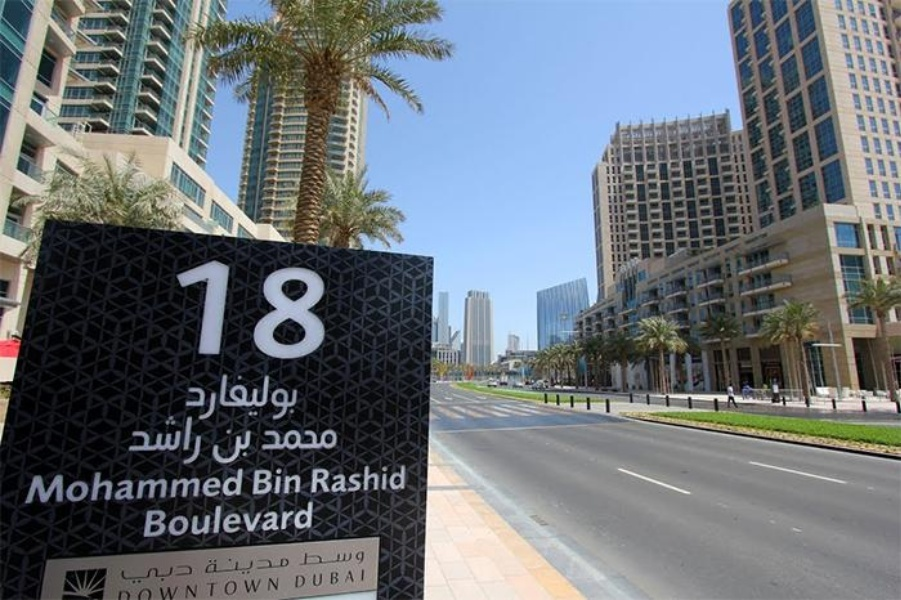text: (177, 253, 192, 364), (193, 253, 208, 364), (209, 253, 224, 364), (225, 253, 240, 364), (241, 253, 256, 364), (257, 253, 272, 364), (273, 253, 288, 364), (289, 253, 304, 364), (305, 253, 320, 364), (321, 253, 334, 364), (129, 413, 144, 467), (145, 413, 160, 467), (161, 413, 176, 467), (177, 413, 192, 467), (193, 371, 208, 423), (209, 371, 224, 423), (225, 371, 240, 423), (241, 371, 256, 423), (257, 371, 272, 423), (273, 371, 288, 423), (193, 413, 206, 467), (289, 371, 302, 423), (145, 500, 160, 541), (161, 500, 176, 541), (177, 500, 192, 541), (193, 500, 208, 541), (209, 500, 224, 541), (225, 500, 240, 541), (241, 500, 256, 541), (257, 500, 272, 541), (273, 500, 288, 541), (289, 500, 304, 541), (225, 425, 240, 465), (33, 467, 48, 507), (49, 467, 64, 507), (65, 467, 80, 507), (81, 467, 96, 507), (97, 467, 112, 507), (113, 467, 128, 507), (129, 467, 144, 507), (145, 467, 160, 507), (161, 467, 176, 507), (177, 467, 192, 507), (193, 467, 208, 507), (209, 467, 224, 507), (225, 467, 240, 507), (210, 425, 224, 465), (241, 425, 254, 465), (257, 467, 272, 500), (273, 467, 288, 500), (289, 467, 304, 500), (305, 500, 317, 541), (321, 464, 336, 496), (337, 464, 352, 496), (353, 464, 368, 496), (369, 464, 384, 496), (385, 464, 400, 496), (273, 425, 288, 455), (289, 425, 304, 455), (305, 425, 320, 455), (321, 425, 336, 455), (209, 549, 224, 579), (225, 549, 240, 579), (241, 549, 256, 579), (257, 549, 272, 579), (273, 549, 288, 579), (307, 464, 320, 496), (305, 545, 320, 572), (321, 545, 336, 572), (337, 545, 352, 572), (129, 559, 144, 586), (145, 559, 160, 586), (161, 559, 176, 586), (177, 559, 192, 586), (209, 573, 224, 599), (225, 573, 240, 599), (241, 573, 256, 599), (257, 573, 272, 599), (353, 545, 367, 572), (305, 566, 320, 590), (321, 566, 336, 590), (337, 566, 352, 590), (115, 559, 128, 586), (353, 566, 367, 590), (261, 425, 272, 455), (401, 464, 411, 496), (291, 566, 304, 590), (129, 582, 144, 599), (145, 582, 160, 599), (161, 582, 176, 599), (177, 582, 192, 599), (115, 582, 128, 599), (201, 549, 208, 579), (273, 573, 281, 599), (250, 467, 256, 500), (297, 545, 304, 572), (337, 425, 343, 455), (289, 549, 295, 579), (140, 500, 144, 541), (241, 467, 245, 507), (193, 582, 201, 599), (193, 559, 196, 586), (127, 413, 128, 467), (191, 371, 192, 423), (206, 573, 208, 599), (305, 467, 306, 500)
